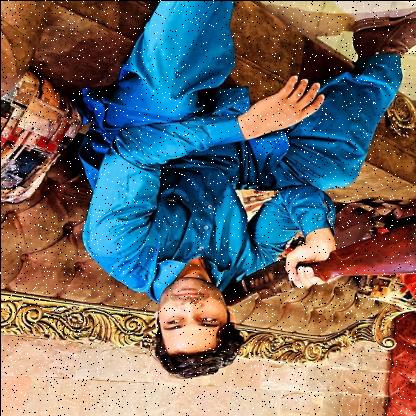rifle: (139, 220, 416, 336)
